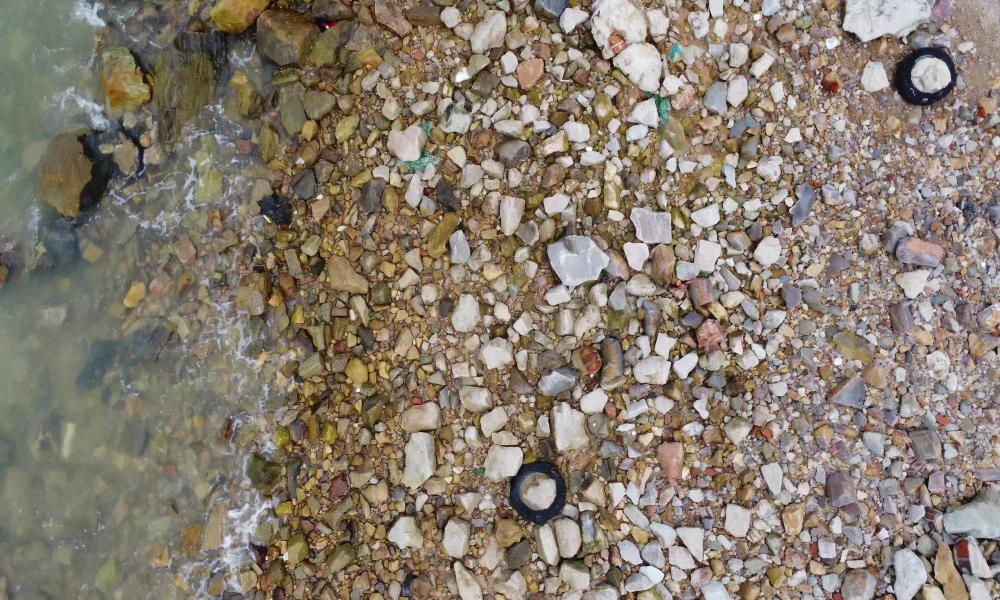tire: (887, 37, 960, 113), (502, 455, 571, 527)
